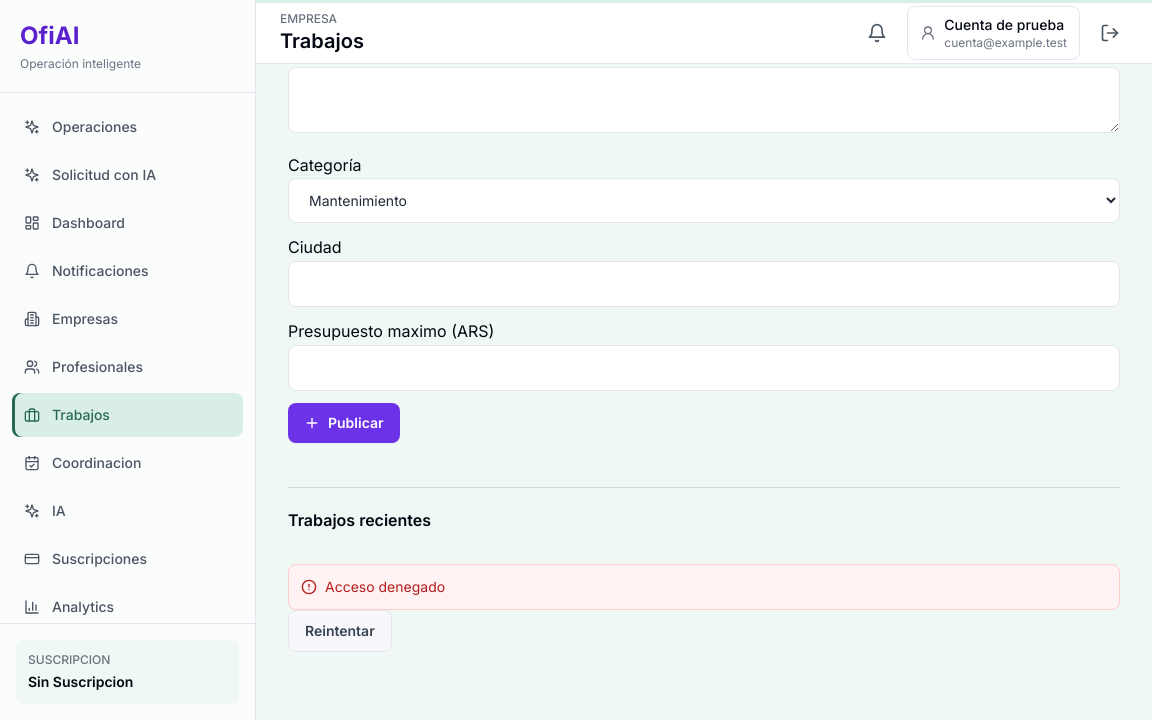
Scenario: Pantallas conectadas a la API › muestra vacio, error y reintento sin inventar trabajos
(page scrolled)
Check: the text "Acceso denegado" is shown, box left=325, top=577, right=445, bottom=597
Click the button "Reintentar" at (340, 631), box left=288, top=610, right=392, bottom=652
(page scrolled)
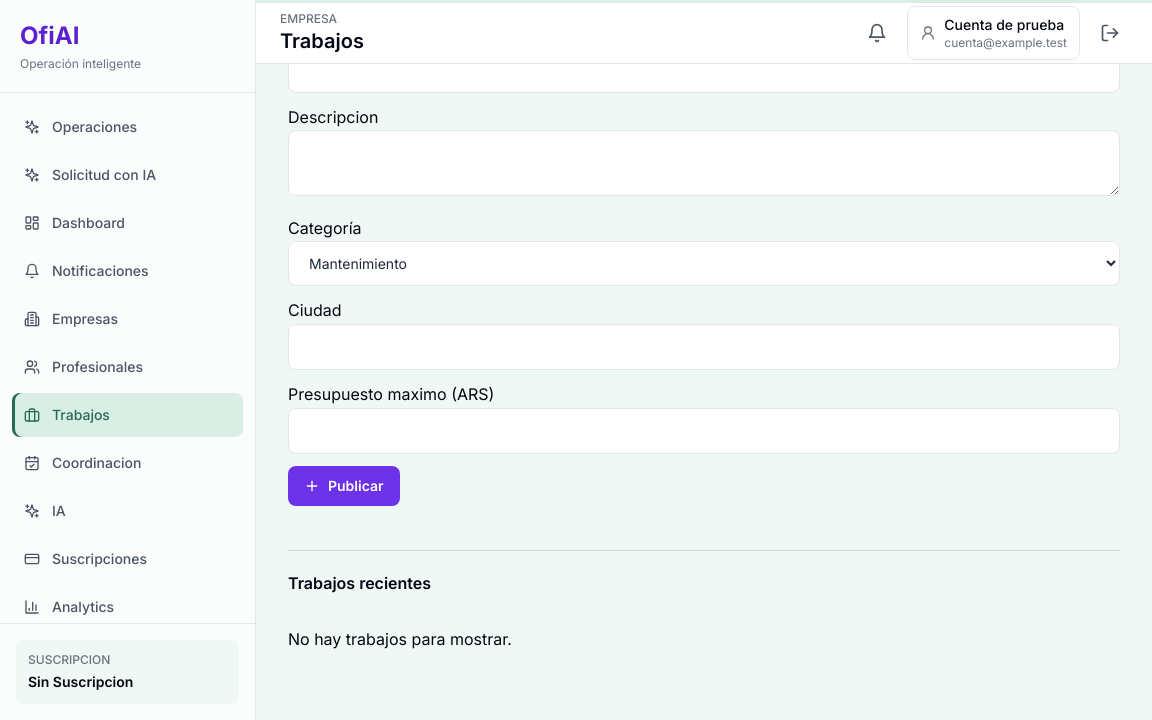
Check: the text "No hay trabajos para mostrar." is shown, box left=288, top=629, right=512, bottom=649
